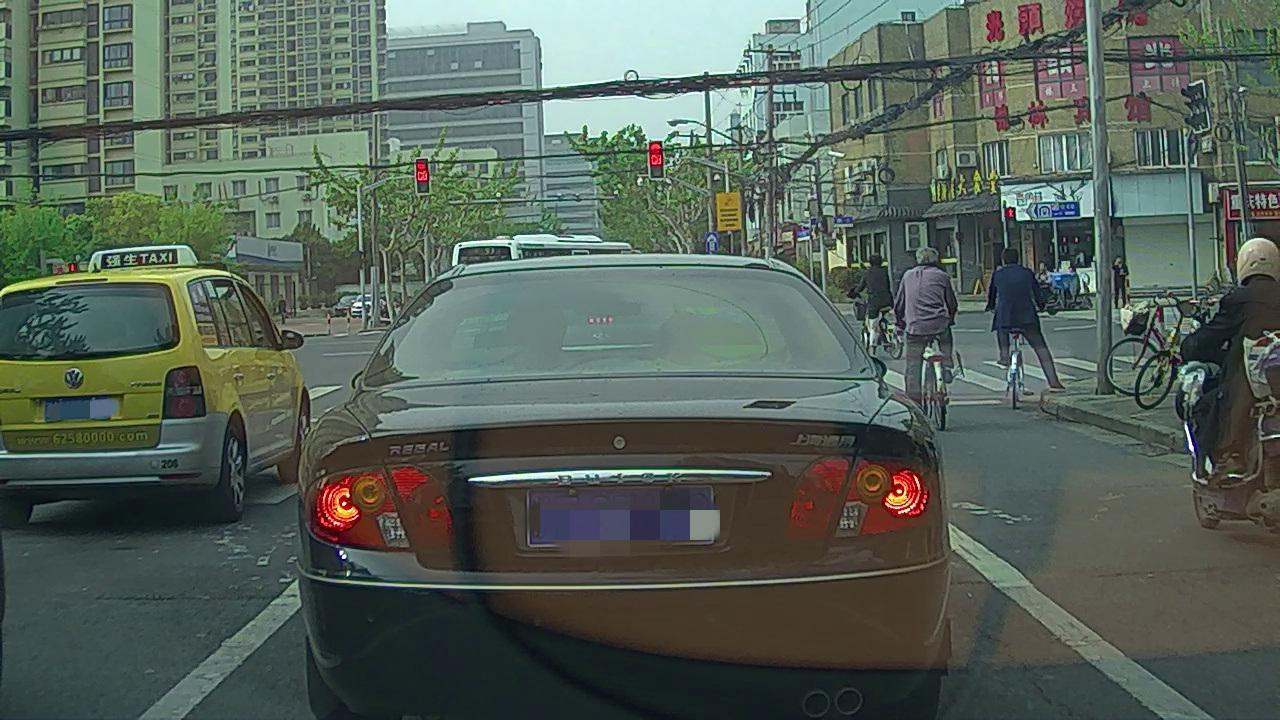traffic_light: (649, 141, 663, 180), (416, 160, 429, 193)
